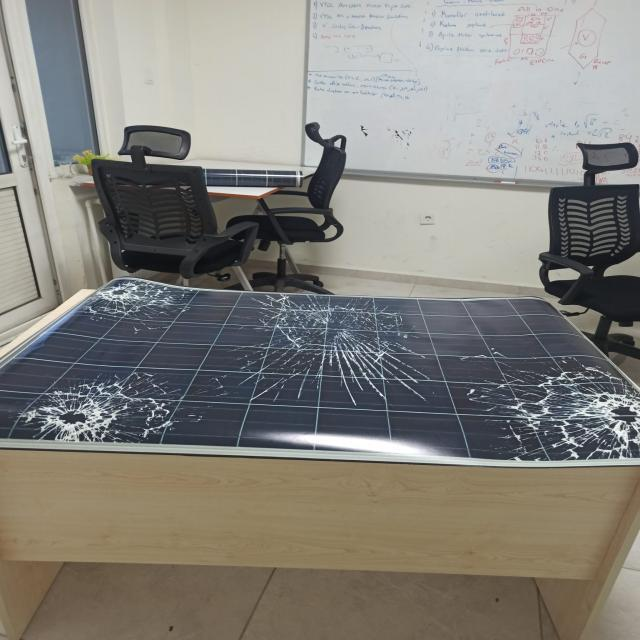faulty: (4, 281, 640, 463)
